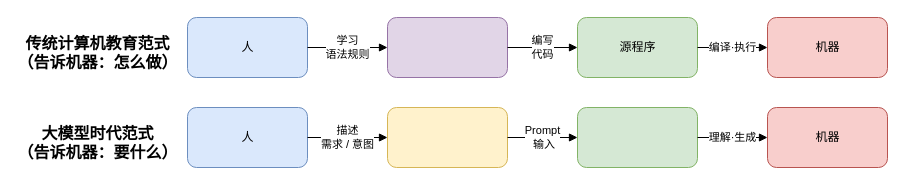
This 905x185 diagram has some shape labels left out. The centre of each missing label's shape, as x and y in pixels:
"大模型" goes at (x=637, y=137).
"程序语言" goes at (x=447, y=47).
"自然语言" goes at (x=447, y=137).
